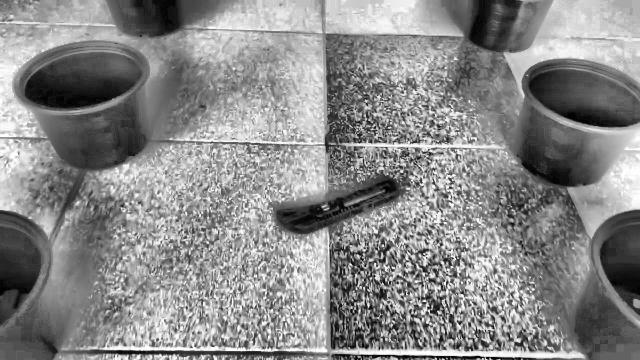pot: (11, 40, 153, 172), (512, 58, 640, 189)
